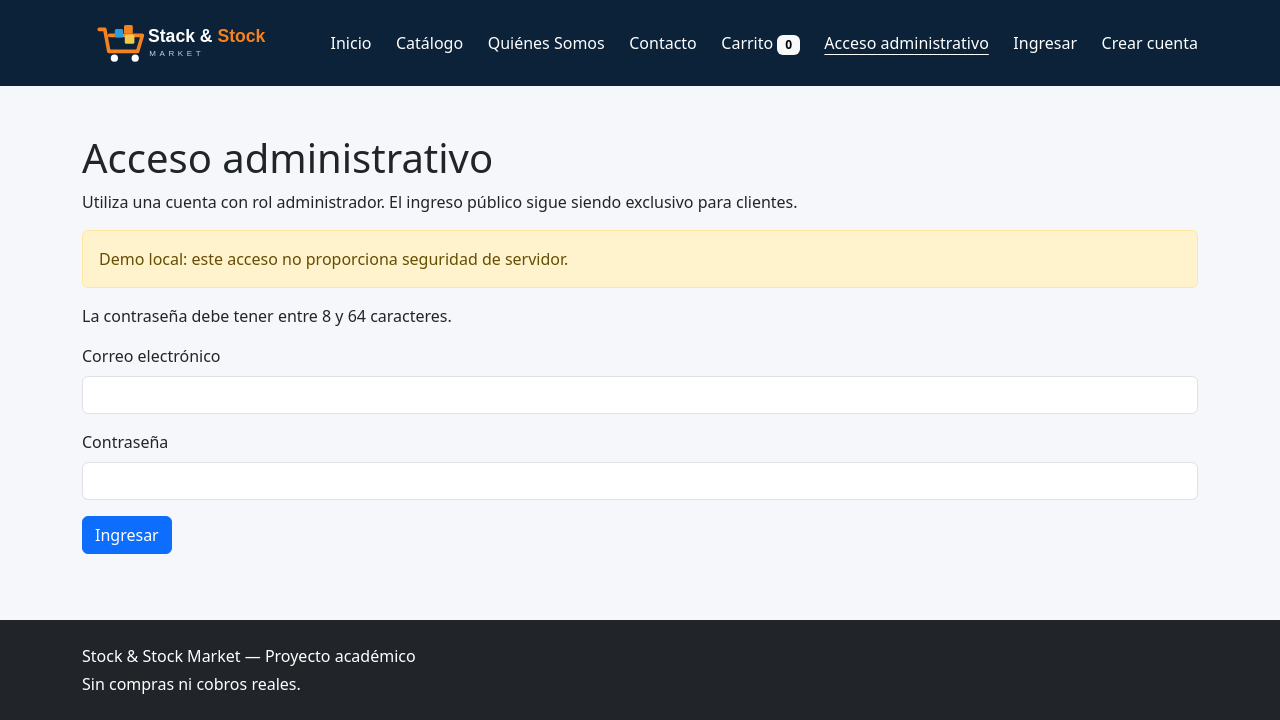
Scenario: Administración integrada › rechaza credenciales de cliente en el acceso administrativo sin crear una sesión
The width and height of the screenshot is (1280, 720).
Expected: the button "Ingresar" is enabled, [82, 516, 172, 554]
Type "cliente@gmail.com" into the field labelled "Correo electrónico". click: (640,395)
box: [82, 376, 1198, 414]
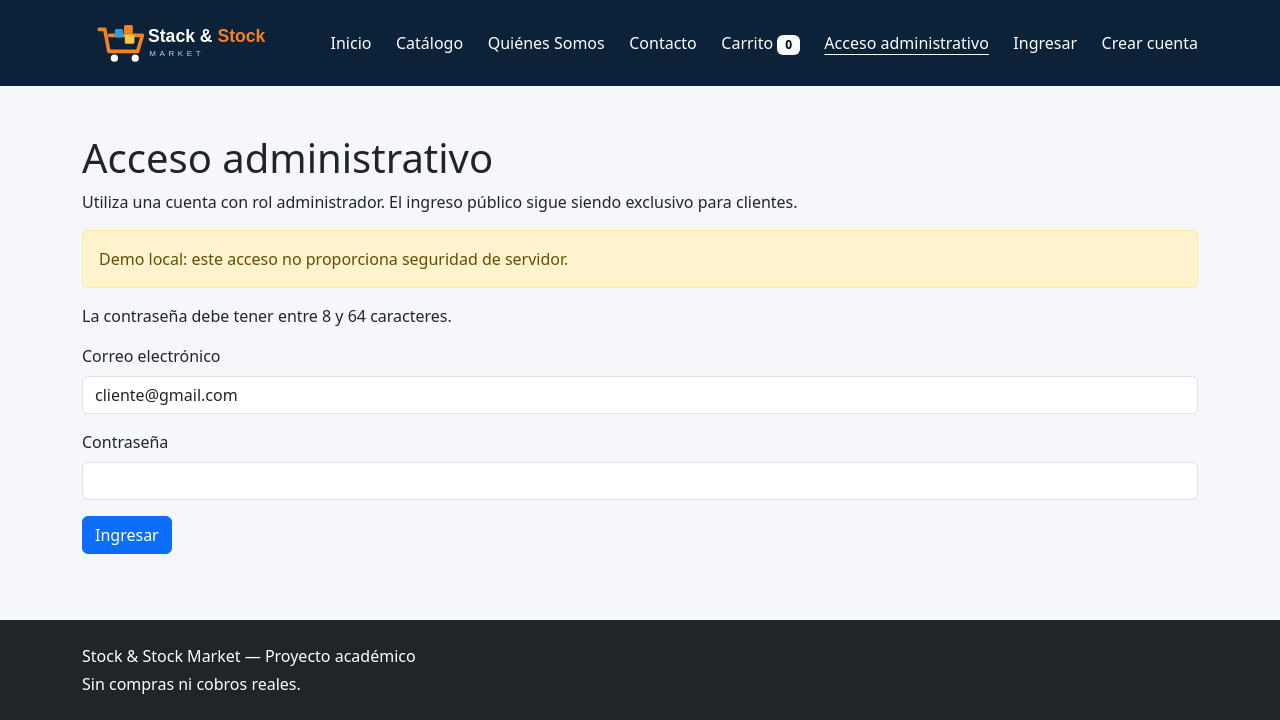
Type "ClienteDemo123" into the password field labelled "Contraseña". click: (640,481)
box: [82, 462, 1198, 500]
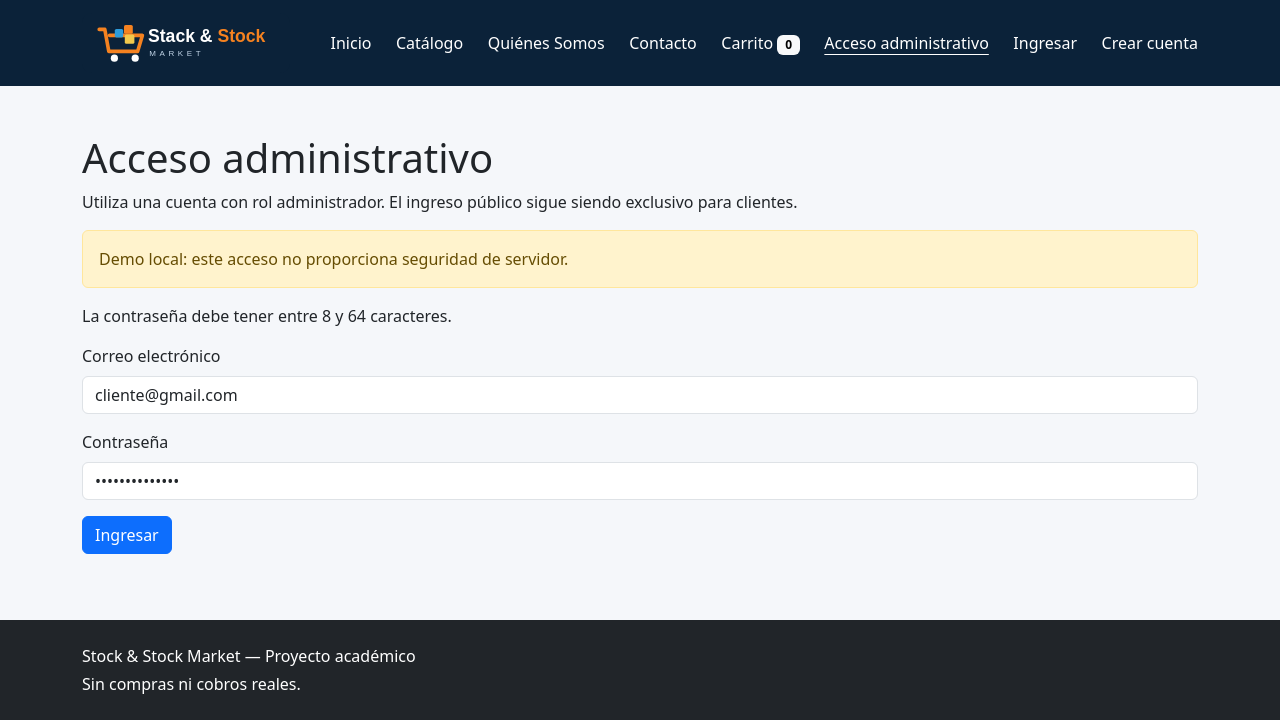
Click the button "Ingresar". click: (127,535)
box: [82, 516, 172, 554]
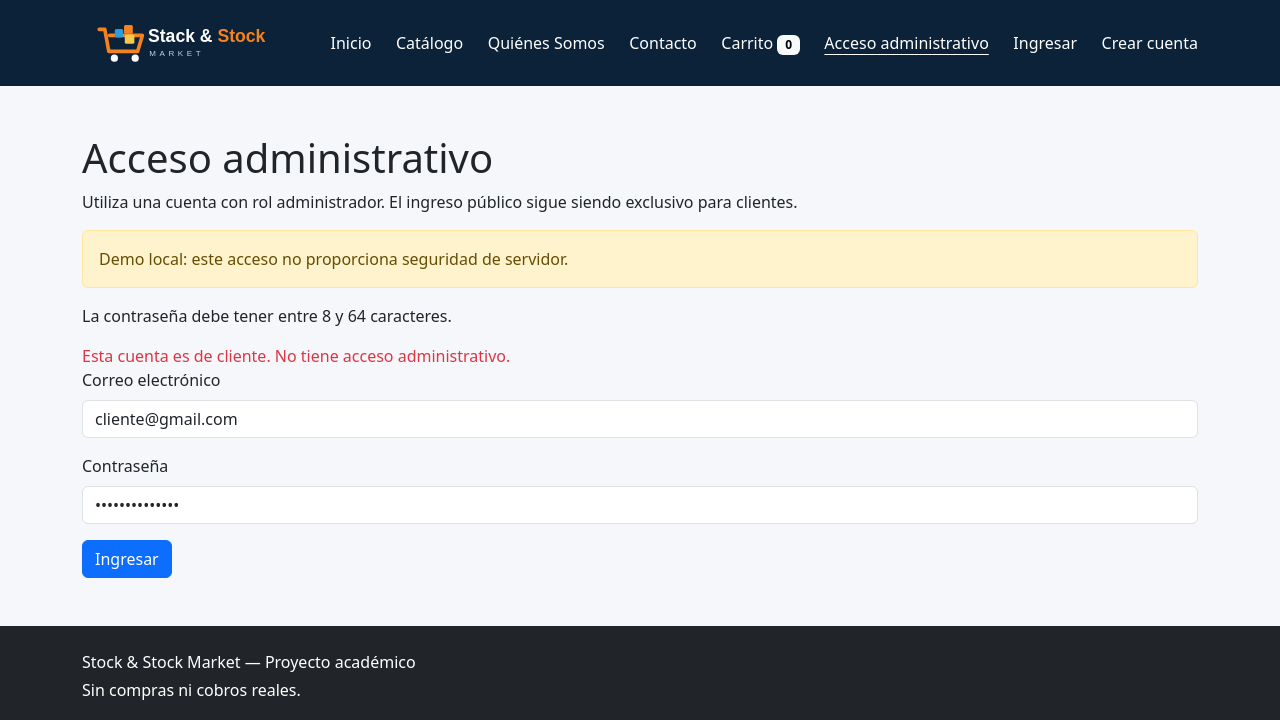
Result: the text "Esta cuenta es de cliente. No tiene acceso administrativo." is shown at [82, 345, 510, 367]
